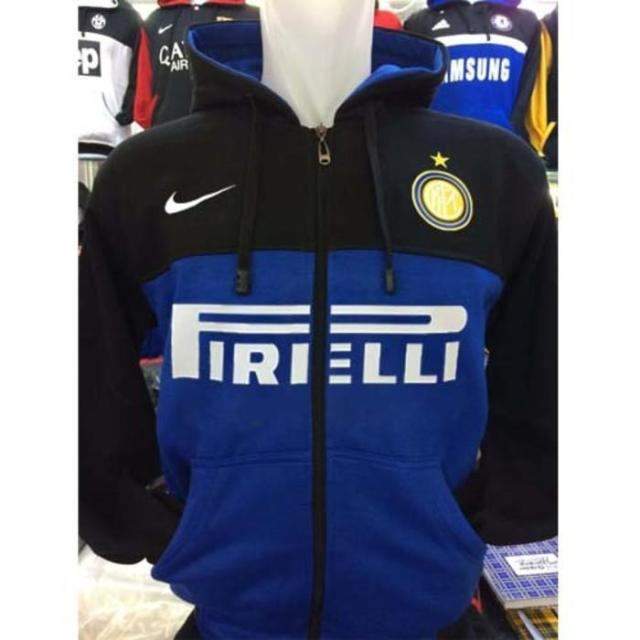jacket: (70, 13, 560, 640)
